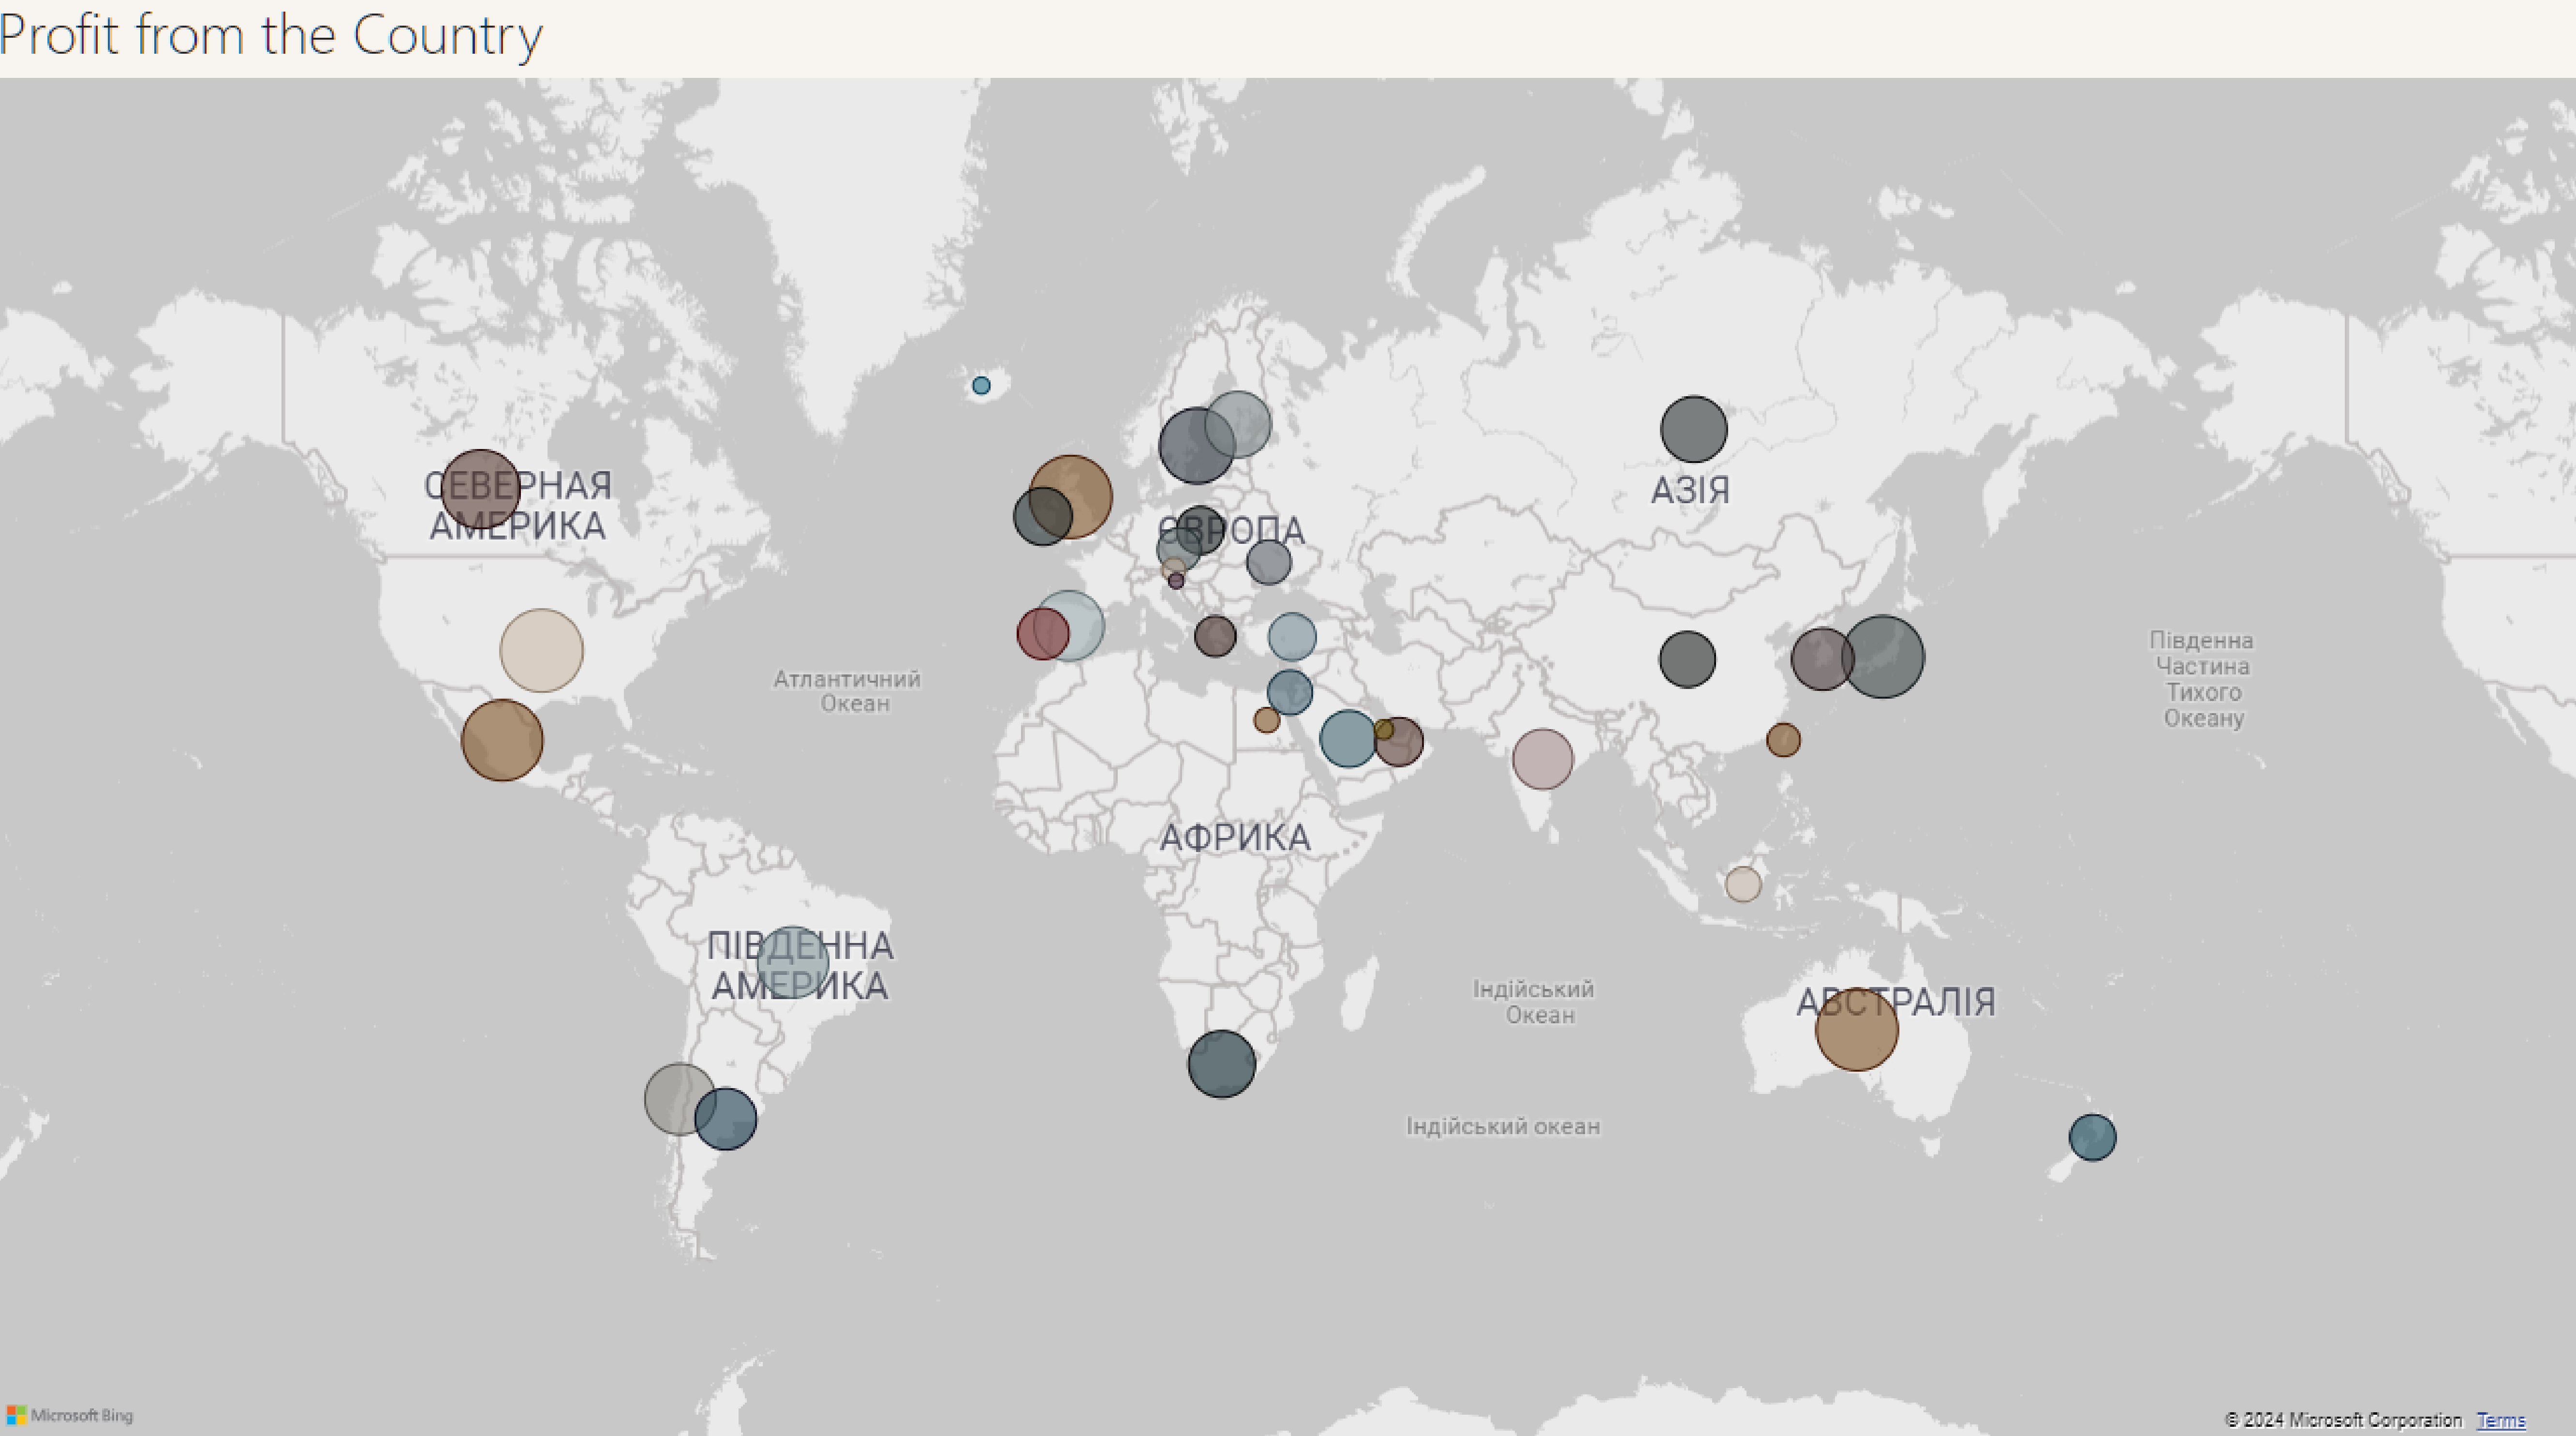

This screenshot's page, from the dashboard's own definition file:
{"tool":"powerbi","page":{"name":"Map","canvas":[1280,720],"ordinal":1},"visuals":[{"type":"map","title":"Profit from the Country","fields":{"Y":["customer_location.Latitude"],"X":["customer_location.Longitude"],"Size":["Sum(products.Profit)"],"Series":["customer_location.Country"]},"box":[0,0,1280,720],"z":0}]}

Visuals, with their boxes in screenshot pixels (x1, y1, x2, y2), scaled from the page's 1280x720 canvas onto the 2576x1436 screenshot:
"Profit from the Country" map: (0,0,2576,1436)
